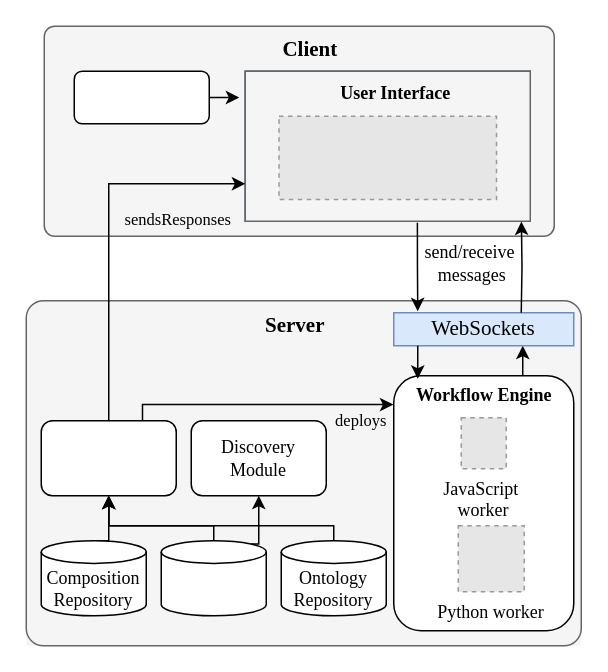
Image size: 608x672. Some labels were removed from this diagram. Grey dashed boxes stand in for pictures. Each missing label, with the centre of its shape:
Component Repository: the point at 213,577
Composition Engine: the point at 108,457
Runtime Cache: the point at 141,97
